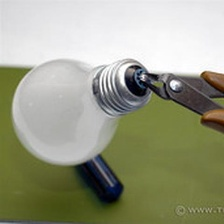light_bulb: (5, 54, 156, 171)
